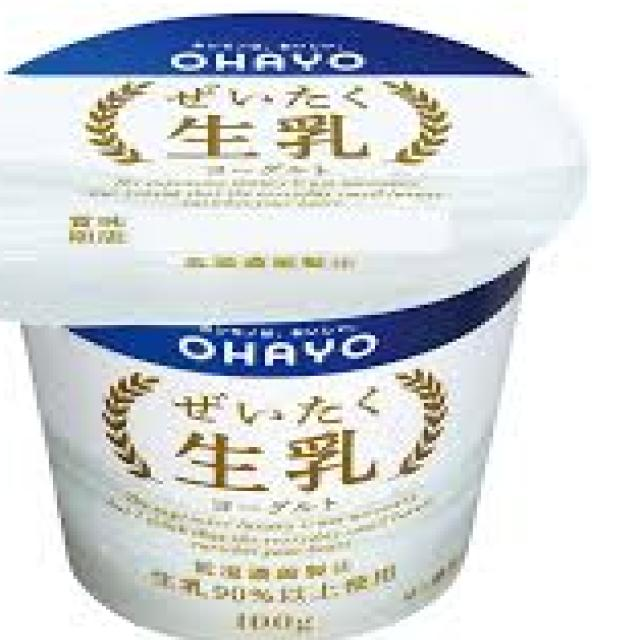organic: (41, 9, 484, 628)
